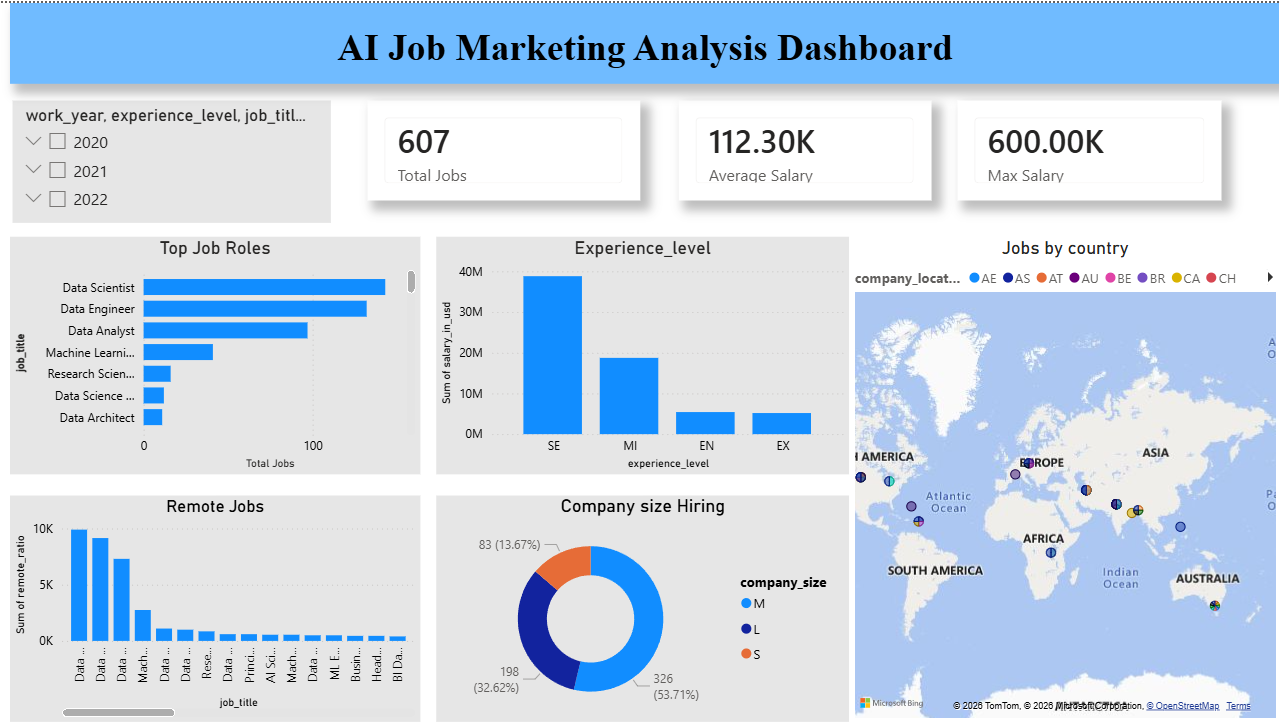

Layout of this report page (visuals, bound fields, positions):
{"tool":"powerbi","page":{"name":"Page 1","canvas":[1280,720],"ordinal":0},"visuals":[{"type":"cardVisual","fields":{"Data":["archive (5).Total Jobs"]},"box":[367.1,97.1,272.9,100],"z":0},{"type":"cardVisual","fields":{"Data":["archive (5).Average Salary"]},"box":[678.6,97.1,252.9,100],"z":1000},{"type":"barChart","title":"Top Job Roles","fields":{"Category":["archive (5).job_title"],"Y":["archive (5).Total Jobs"]},"box":[9.6,233.3,410.3,237.4],"z":2000},{"type":"columnChart","title":"Experience_level","fields":{"Category":["archive (5).experience_level"],"Y":["Sum(archive (5).salary_in_usd)"]},"box":[436.4,233.3,413,237.4],"z":3000},{"type":"map","title":"Jobs by country","fields":{"Series":["archive (5).company_location"],"Category":["archive (5).job_title"]},"box":[849.4,233.3,430.9,485.8],"z":4000},{"type":"columnChart","title":"Remote Jobs","fields":{"Y":["Sum(archive (5).remote_ratio)"],"Category":["archive (5).job_title"]},"box":[9.6,492.6,410.3,226.4],"z":5000},{"type":"donutChart","title":"Company size Hiring","fields":{"Category":["archive (5).company_size"],"Y":["archive (5).Total Jobs"]},"box":[436.4,492.6,413,226.4],"z":6000},{"type":"slicer","fields":{"Values":["archive (5).work_year","archive (5).experience_level","archive (5).job_title","archive (5).company_location"]},"box":[12.3,97.4,318.4,122.1],"z":7000},{"type":"textbox","box":[9.6,0,1270.7,81],"z":8000},{"type":"cardVisual","fields":{"Data":["archive (5).Max Salary"]},"box":[957.1,97.1,264.3,100],"z":9000}]}

Visuals, with their boxes in screenshot pixels (x1, y1, x2, y2), scaled from the page's 1280x720 canvas onto the 1279x723 screenshot:
cardVisual - archive (5).Total Jobs: 367 98 640 198
cardVisual - archive (5).Average Salary: 678 98 931 198
"Top Job Roles" barChart: 10 234 420 473
"Experience_level" columnChart: 436 234 849 473
"Jobs by country" map: 849 234 1278 722
"Remote Jobs" columnChart: 10 495 420 722
"Company size Hiring" donutChart: 436 495 849 722
slicer - archive (5).work_year x archive (5).experience_level: 12 98 330 220
textbox: 10 0 1278 81
cardVisual - archive (5).Max Salary: 956 98 1220 198
